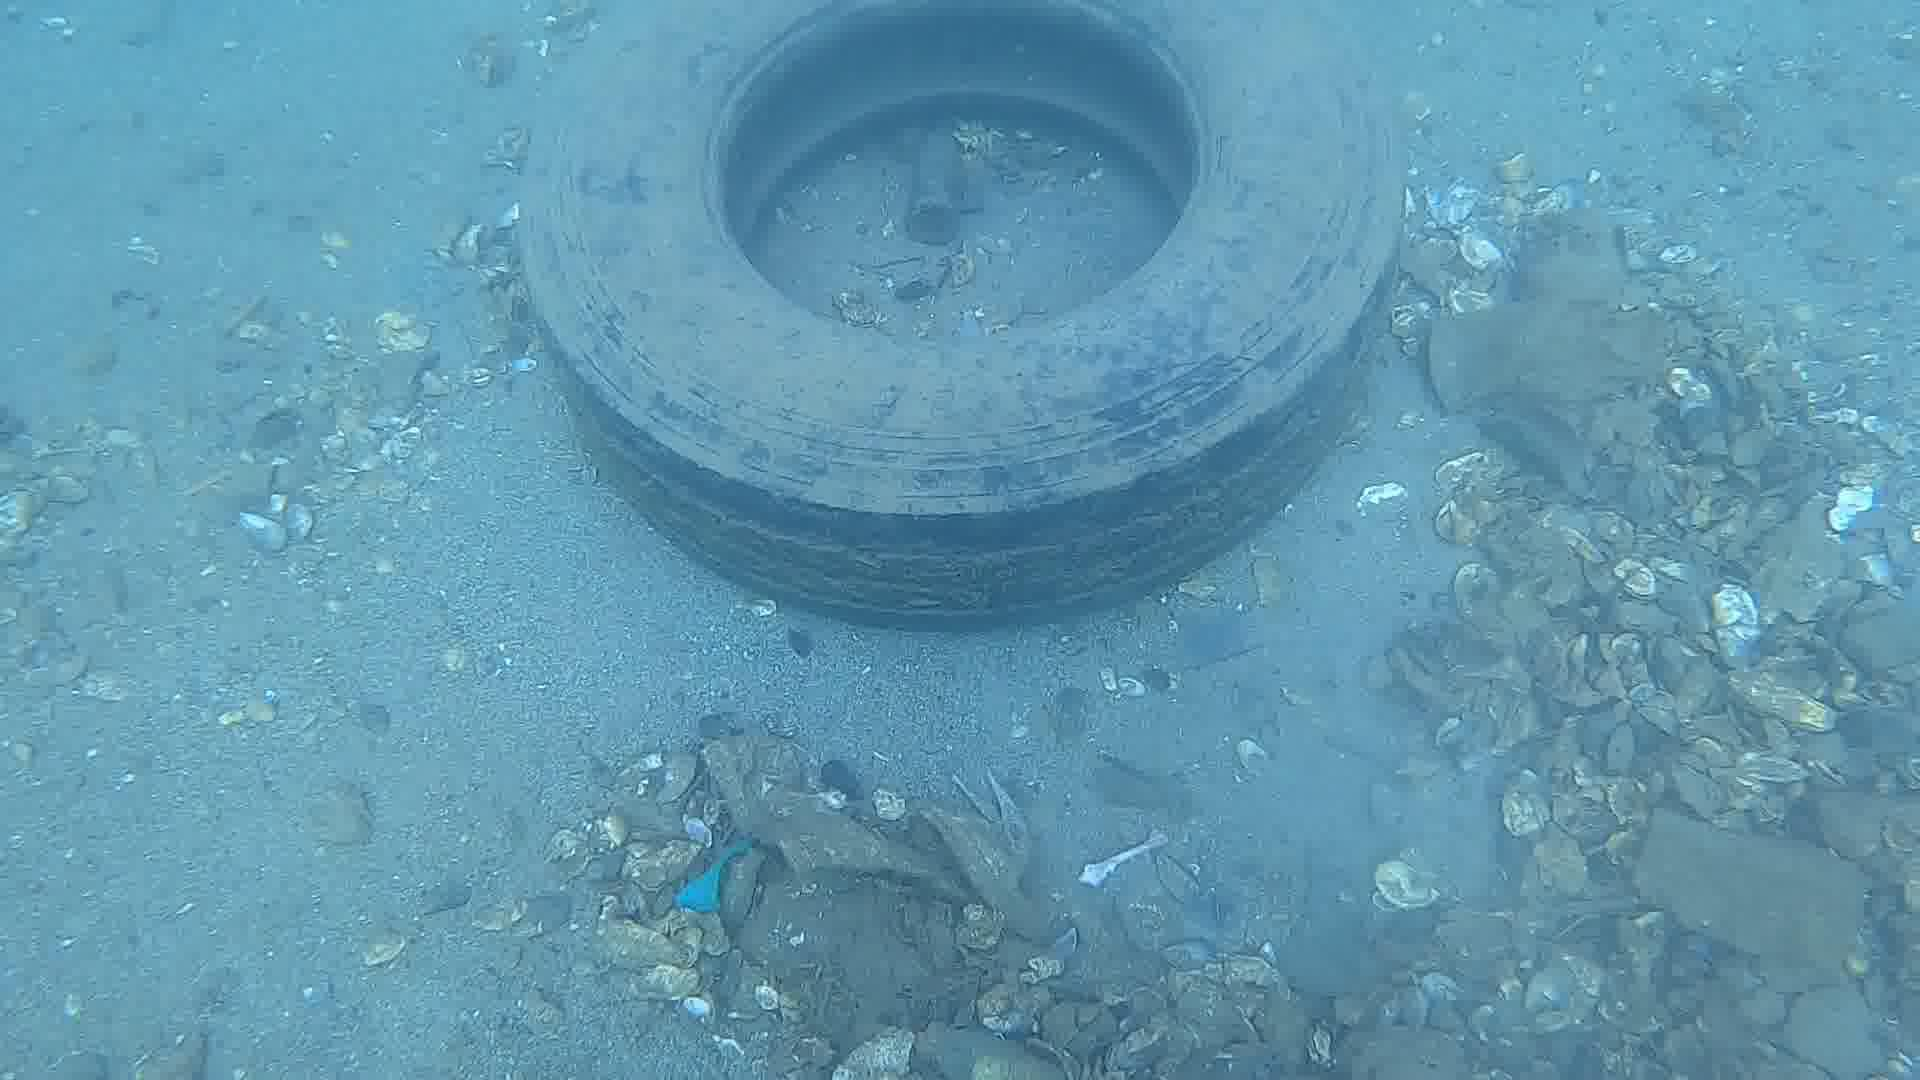tire: (522, 1, 1400, 622)
